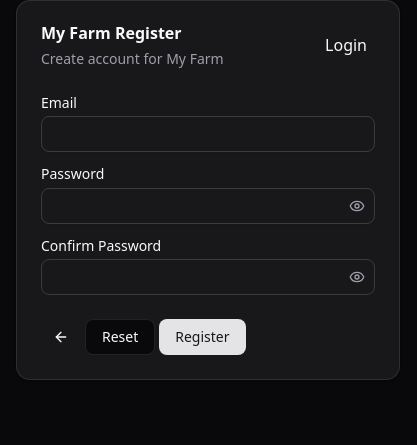
Test case: Reg Form Tests › check click empty form
Click the button "Register" at (202, 337), box x1=159 y1=319 x2=246 y2=355
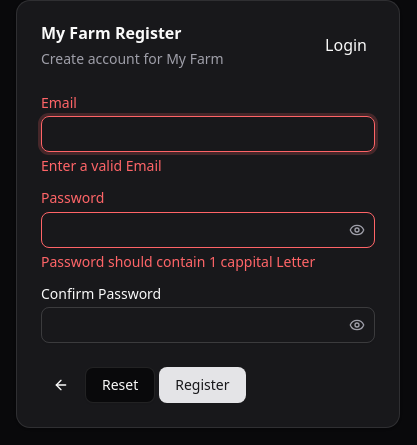
Check: the text "Enter a valid Email" is shown, box x1=41 y1=156 x2=162 y2=175
Check: the text "Password should contain 1 cappital Letter" is shown, box x1=41 y1=252 x2=315 y2=270
